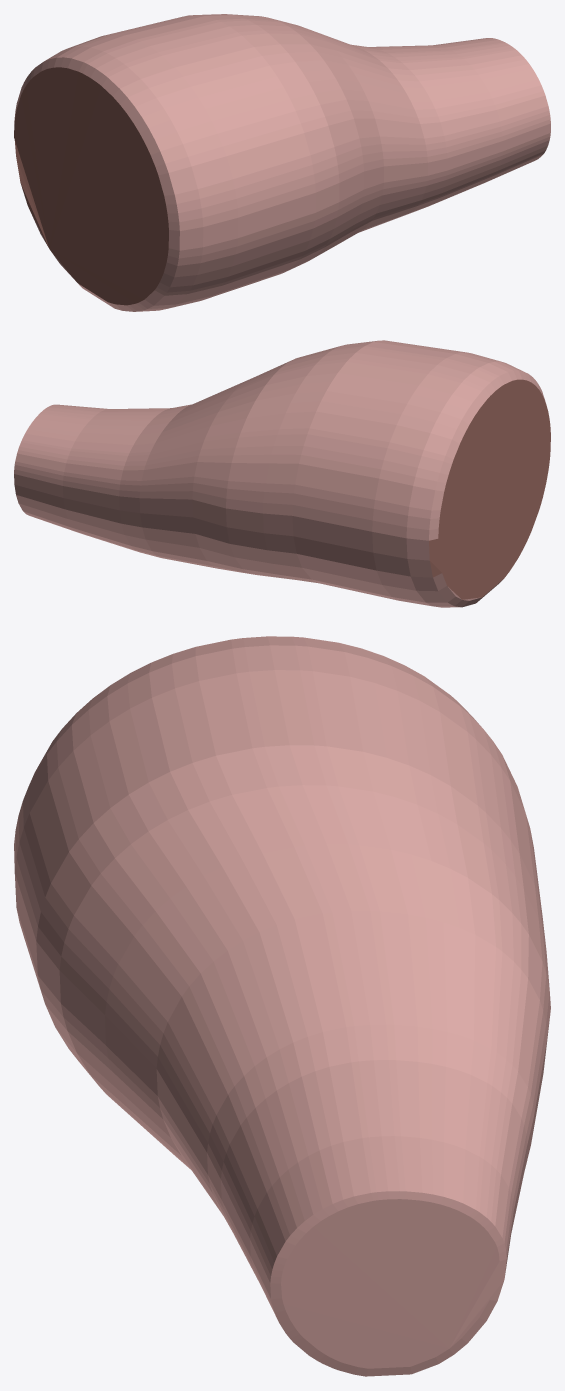
File: presunto.fbx
The picture shows the model from 3 angles, top to bottom: view 1: azimuth 30°, elevation 25°; view 2: azimuth 150°, elevation 25°; view 3: azimuth 270°, elevation 25°; orthographic projection. The views are drawn at different scales.
Parts seen in each view (by area): view 1: polySurface84; view 2: polySurface84; view 3: polySurface84.
Boxes of the visible parts, box(x1,y1,x2,y2) form: polySurface84: box(14, 14, 550, 311); polySurface84: box(14, 340, 550, 607); polySurface84: box(14, 636, 550, 1376).
Size of the model in its own units: 19.35 by 9.62 by 11.53.
